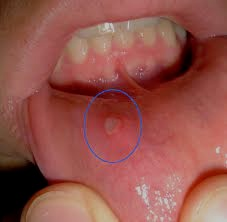Ulcer: (99, 110, 130, 141)
